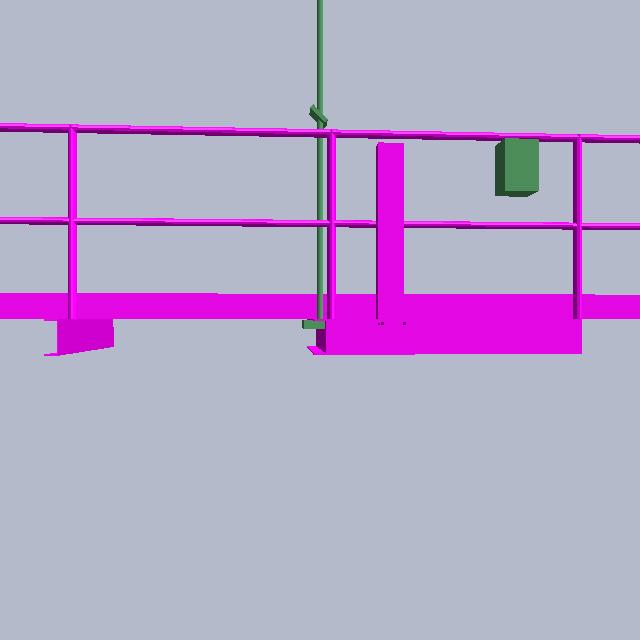Poste: (313, 1, 325, 339)
Soporte: (372, 130, 412, 332)
